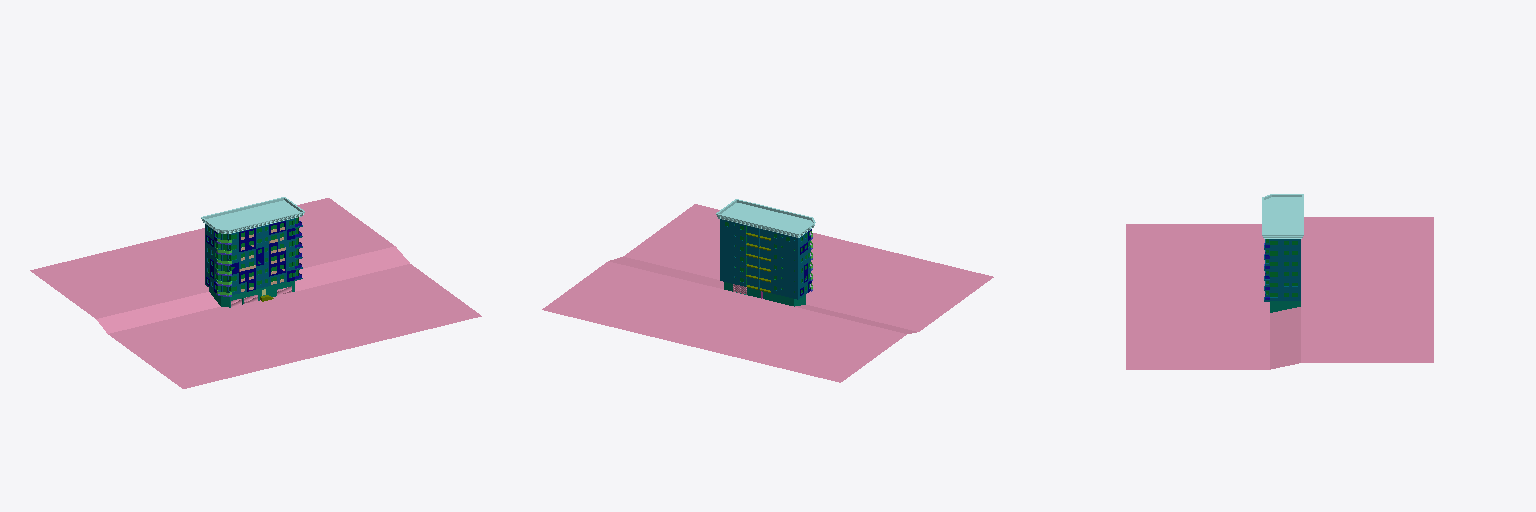
3 views of the same model, side by side, from view 1: azimuth 30°, elevation 25°; view 2: azimuth 150°, elevation 25°; view 3: azimuth 270°, elevation 25° (orthographic).
Visible parts, largest first — view 1: Object001, Object002, Line209, Line210, Line296, Plane170, Line238; view 2: Object001, Object002, Line209, Line210, Line296, Plane170; view 3: Object001, Object002, Line209, Line210, Plane170.
Boxes of the visible parts, x1,y1,x2,y2 form: Object001: [77, 215, 438, 368]; Object002: [30, 198, 481, 388]; Line209: [205, 218, 295, 294]; Line210: [206, 200, 299, 229]; Line296: [201, 197, 304, 233]; Plane170: [194, 281, 307, 313]; Line238: [209, 280, 294, 307]; Object001: [583, 223, 944, 363]; Object002: [542, 204, 993, 382]; Line209: [720, 219, 810, 299]; Line210: [721, 203, 812, 232]; Line296: [716, 199, 815, 237]; Plane170: [710, 284, 822, 312]; Object001: [1161, 232, 1401, 356]; Object002: [1126, 217, 1433, 369]; Line209: [1265, 239, 1300, 300]; Line210: [1264, 197, 1301, 233]; Plane170: [1262, 267, 1311, 317].
Bounding box in the file's own units: 10796 × 2811 × 9596.